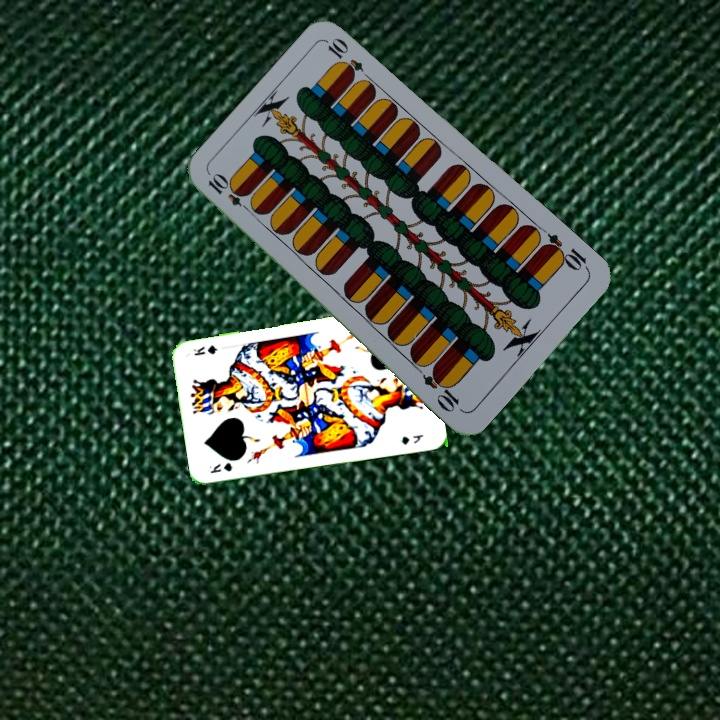E10: (538, 229, 592, 274), (204, 170, 256, 216)
GK: (205, 458, 235, 476)
